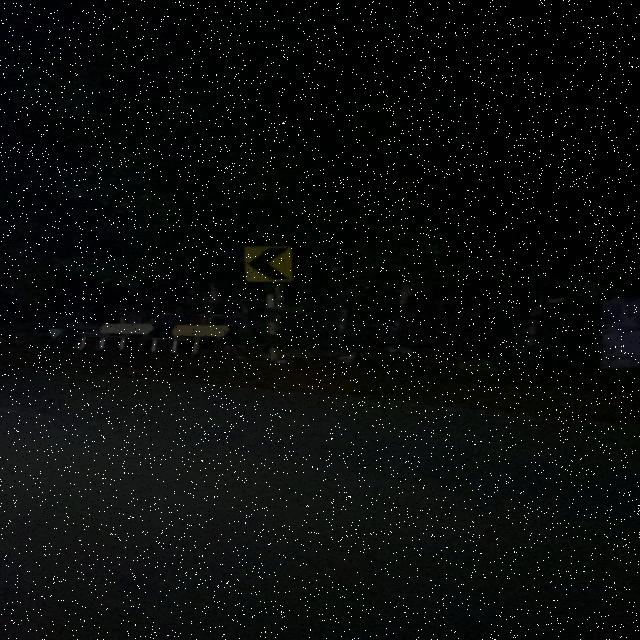chevron_left: (233, 241, 307, 288)
